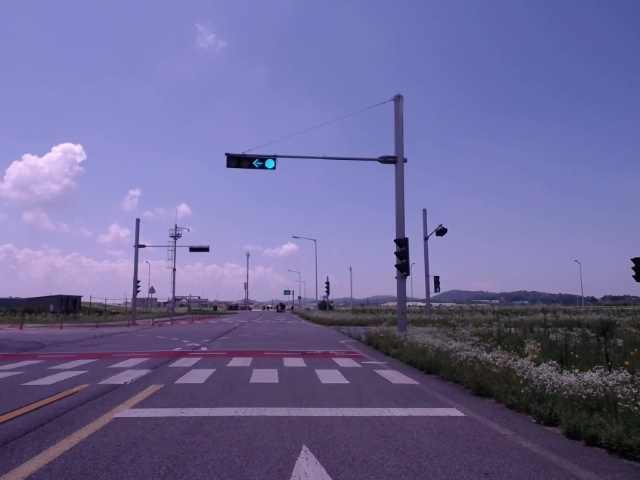all_green_4: (225, 154, 275, 170)
